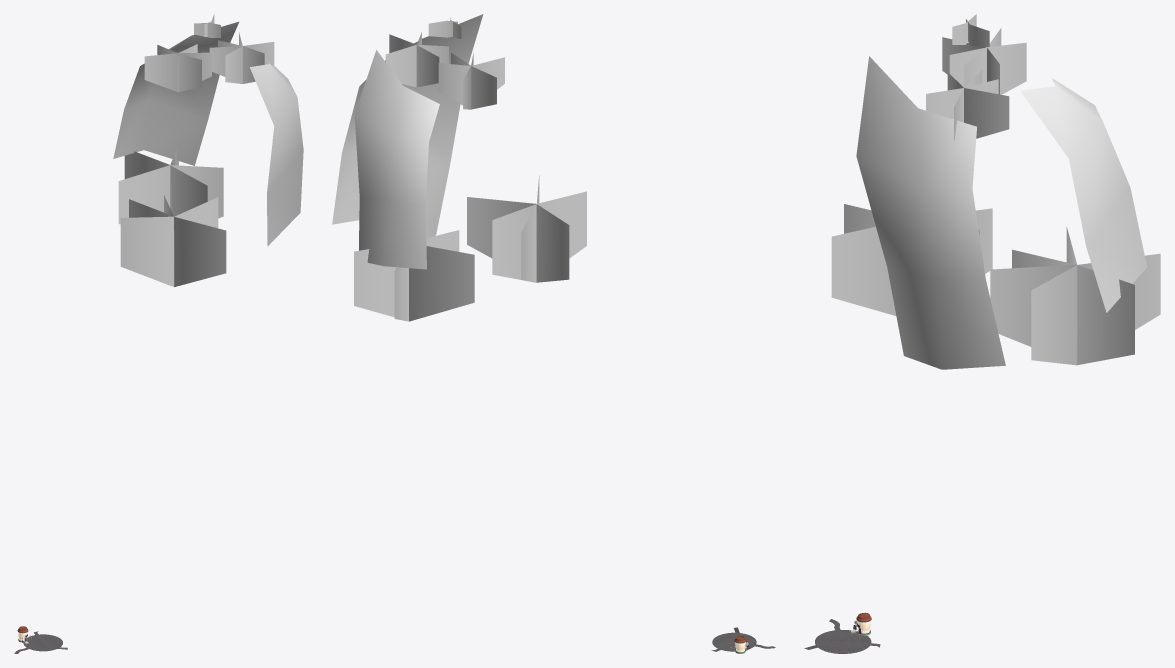
File: ville.glb
3 views of the same model, side by side, from view 1: azimuth 30°, elevation 25°; view 2: azimuth 150°, elevation 25°; view 3: azimuth 270°, elevation 25° (orthographic). The views are drawn at different scales.
Visible parts, largest first — view 1: Plane015, Object008_Material #49_0, Object009_Material #49_0, Plane014, Plane016, Plane017, Circle.001; view 2: Object008_Material #49_0, Plane015, Plane014, Object009_Material #49_0, Plane016, Plane017, Circle.001; view 3: Object009_Material #49_0, Plane014, Object008_Material #49_0, Plane015, Plane017, Plane016, Circle.001.
Boxes of the visible parts, box(x1,y1,x2,y2) form: Plane015: box(120, 195, 226, 287); Object008_Material #49_0: box(113, 21, 238, 165); Object009_Material #49_0: box(249, 59, 303, 246); Plane014: box(118, 149, 223, 224); Plane016: box(144, 44, 211, 92); Plane017: box(209, 32, 274, 83); Circle.001: box(14, 631, 67, 653); Object008_Material #49_0: box(354, 50, 439, 269); Plane015: box(467, 175, 586, 282); Plane014: box(354, 216, 474, 321); Object009_Material #49_0: box(332, 14, 483, 234); Plane016: box(438, 52, 504, 109); Plane017: box(385, 32, 448, 87); Circle.001: box(711, 627, 775, 651); Object009_Material #49_0: box(856, 56, 1005, 369); Plane014: box(990, 227, 1160, 365); Object008_Material #49_0: box(1020, 78, 1146, 312); Plane015: box(831, 204, 992, 315); Plane017: box(926, 70, 1009, 140); Plane016: box(942, 28, 1026, 94); Circle.001: box(804, 619, 880, 653).
Bounding box in the file's own units: 250 × 382 × 161.
23 materials, 9 textured.
